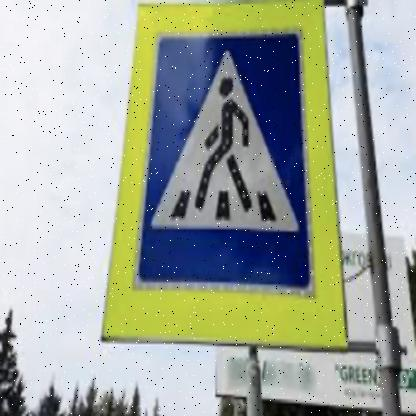Pedestrian Crossing: (142, 42, 308, 285)
